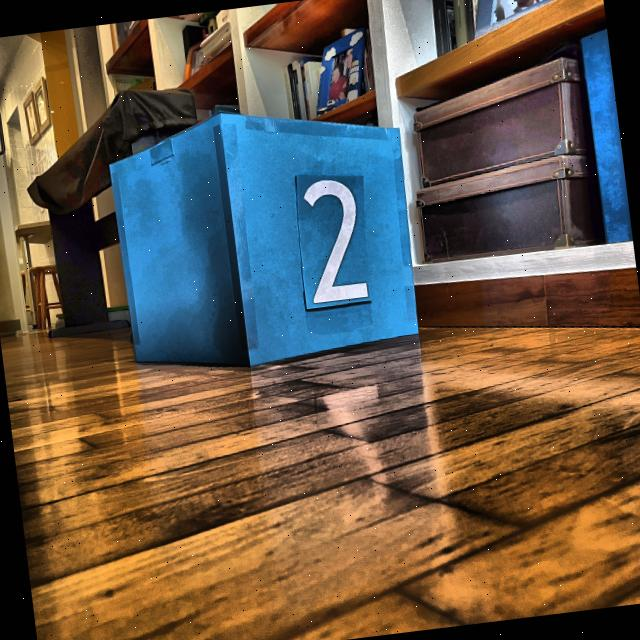blue box: (98, 85, 431, 386)
two: (294, 168, 374, 308)
